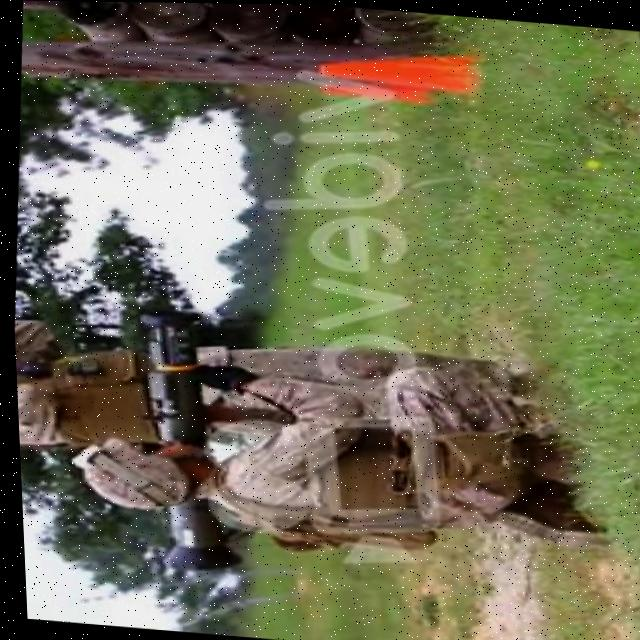rocket: (118, 302, 250, 578)
